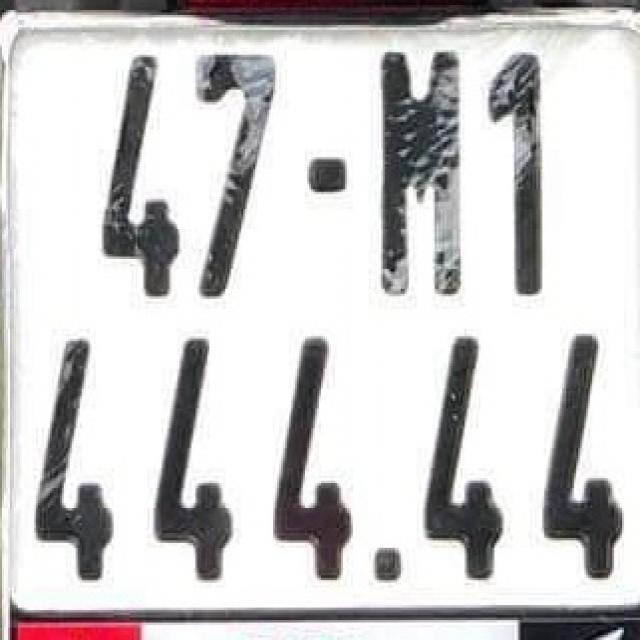1: (478, 45, 570, 304)
4: (534, 323, 632, 582), (414, 326, 512, 585), (91, 45, 188, 304), (148, 328, 242, 586), (28, 328, 122, 586), (268, 326, 360, 585)
7: (188, 45, 286, 302)
M: (372, 32, 474, 316)
